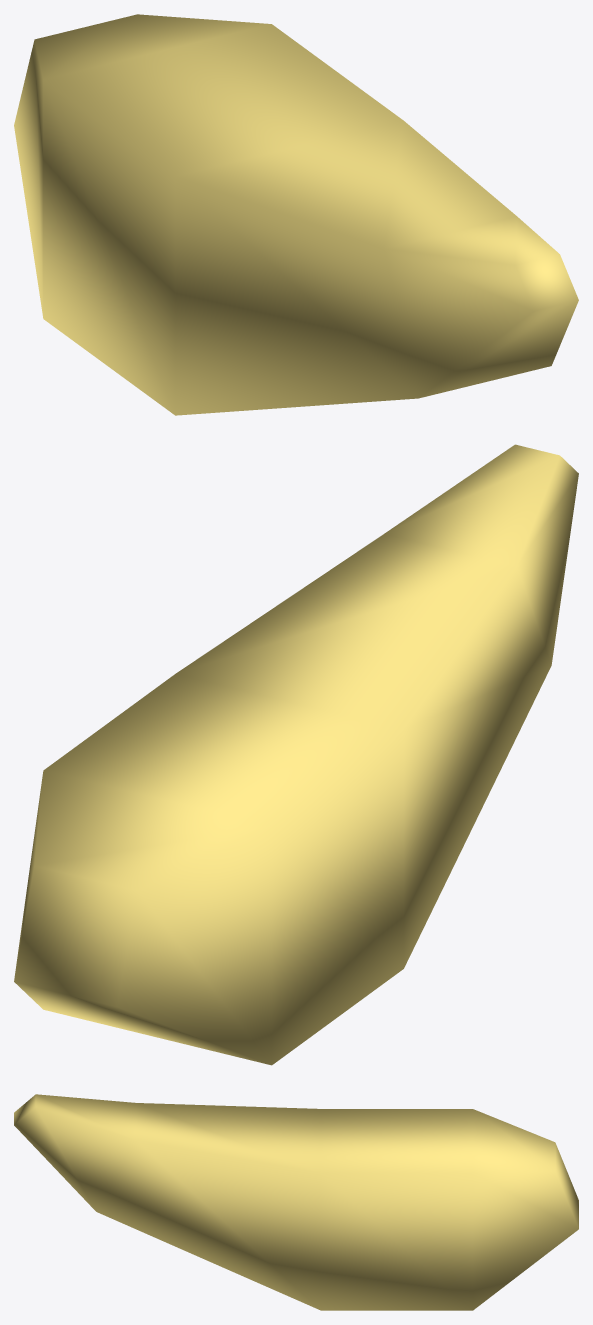
The model's file is feather.fbx.
3 renders of one model, top to bottom at view 1: azimuth 30°, elevation 25°; view 2: azimuth 150°, elevation 25°; view 3: azimuth 270°, elevation 25°, orthographic. The views are drawn at different scales.
Parts seen in each view (by area): view 1: Cube; view 2: Cube; view 3: Cube.
Boxes of the visible parts, x1=… form: Cube: x1=14, y1=14, x2=578, y2=415; Cube: x1=14, y1=444, x2=578, y2=1065; Cube: x1=14, y1=1094, x2=578, y2=1310.
Size of the model in its own units: 200 by 259 by 744.
